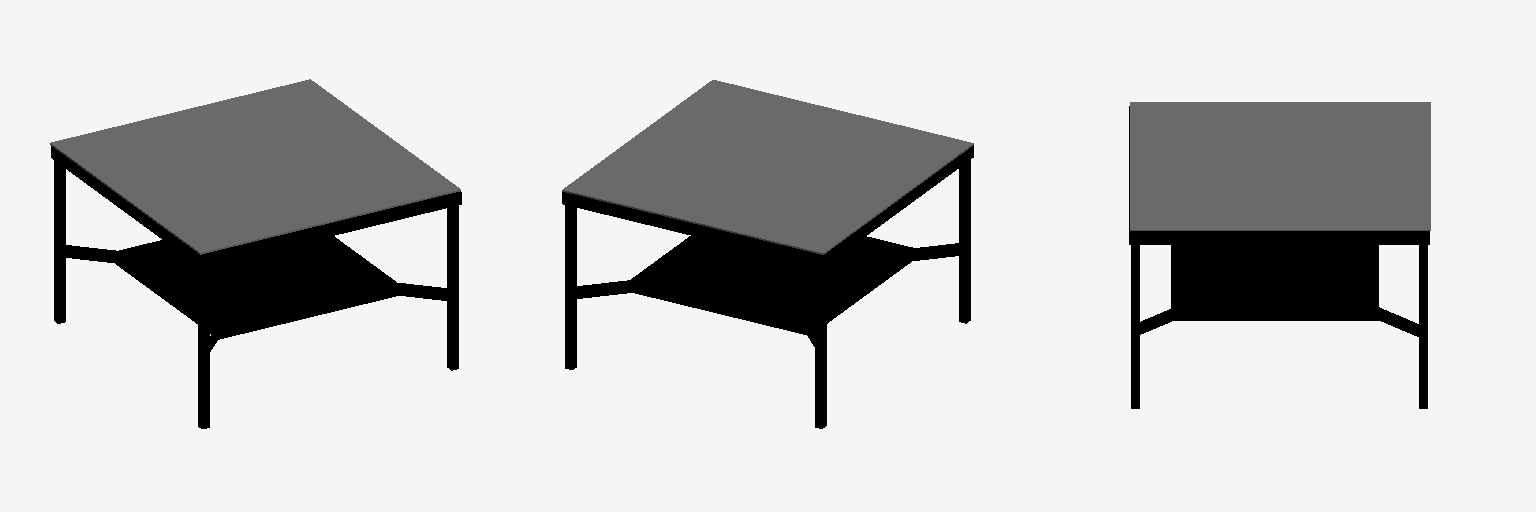
3 renders of one model, left to right at view 1: azimuth 30°, elevation 25°; view 2: azimuth 150°, elevation 25°; view 3: azimuth 270°, elevation 25°, orthographic.
Visible parts, largest first — view 1: sweethome3d_window_pane_12, 8, 4, 3, 11, 10, 2, 7; view 2: sweethome3d_window_pane_12, 8, 6, 3, 1, 2, 11, 9; view 3: sweethome3d_window_pane_12, 8, 5, 1, 10, 9, 7.
Part boxes in pixels (left/top/right/bottom): sweethome3d_window_pane_12: left=50, top=79, right=460, bottom=254; 8: left=115, top=236, right=398, bottom=339; 4: left=212, top=194, right=450, bottom=264; 3: left=51, top=146, right=212, bottom=267; 11: left=198, top=266, right=209, bottom=428; 10: left=447, top=205, right=458, bottom=370; 2: left=54, top=161, right=65, bottom=323; 7: left=66, top=245, right=450, bottom=301; sweethome3d_window_pane_12: left=562, top=80, right=973, bottom=254; 8: left=631, top=236, right=913, bottom=334; 6: left=574, top=194, right=811, bottom=264; 3: left=812, top=145, right=973, bottom=267; 1: left=565, top=205, right=576, bottom=369; 2: left=815, top=265, right=826, bottom=428; 11: left=959, top=160, right=970, bottom=323; 9: left=577, top=243, right=959, bottom=298; sweethome3d_window_pane_12: left=1130, top=102, right=1430, bottom=230; 8: left=1171, top=245, right=1378, bottom=320; 5: left=1129, top=227, right=1429, bottom=244; 1: left=1419, top=245, right=1427, bottom=408; 10: left=1131, top=245, right=1139, bottom=408; 9: left=1230, top=245, right=1418, bottom=336; 7: left=1140, top=245, right=1322, bottom=334.
Bounding box in the file's own units: 1.36 × 0.8941 × 1.36.